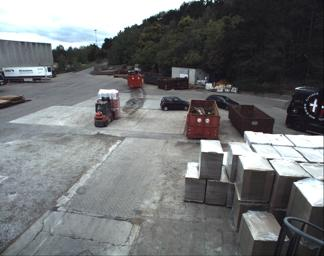rockwool_batts: (97, 89, 121, 116)
